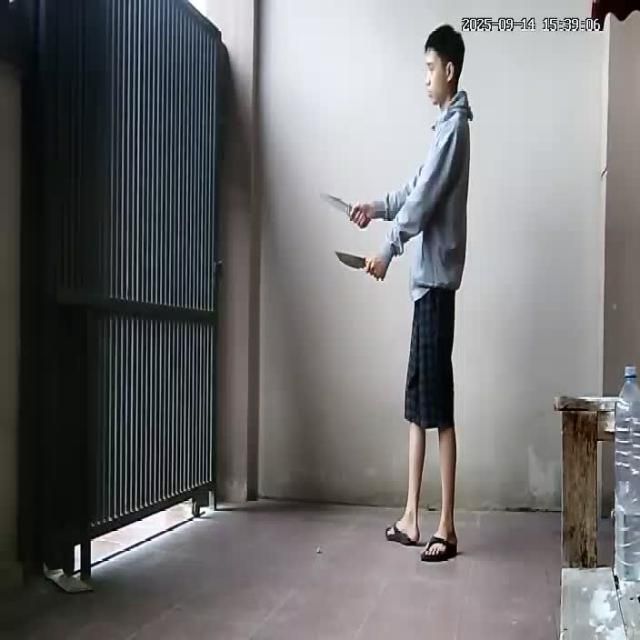senjata_tajam: (317, 190, 352, 218), (333, 247, 368, 272)
